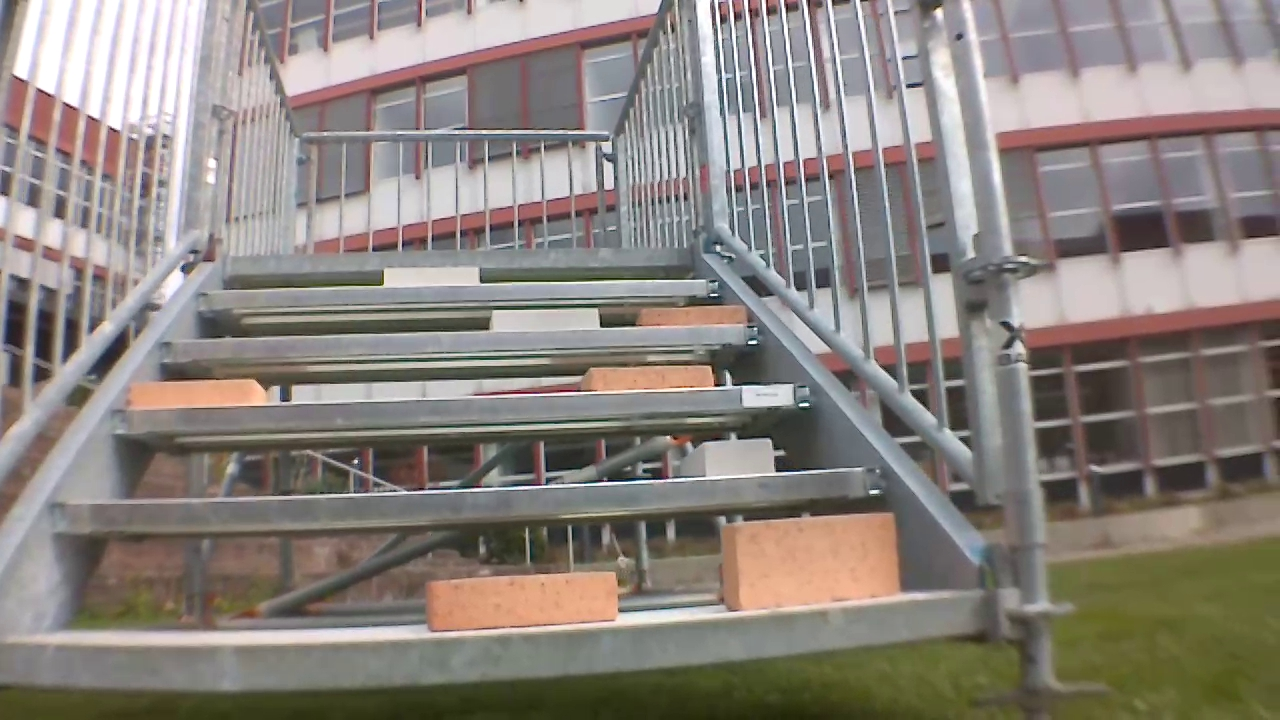brick: (716, 511, 905, 617), (413, 570, 621, 627), (110, 374, 273, 410), (582, 362, 711, 394), (634, 303, 759, 333), (697, 435, 772, 475), (483, 310, 598, 333), (372, 268, 483, 285)
edge: (0, 590, 989, 681), (38, 464, 890, 541), (110, 385, 819, 439), (158, 324, 774, 364), (187, 276, 722, 319), (215, 245, 697, 285)
stairs: (0, 0, 1063, 698)
steps: (0, 240, 1045, 660)
